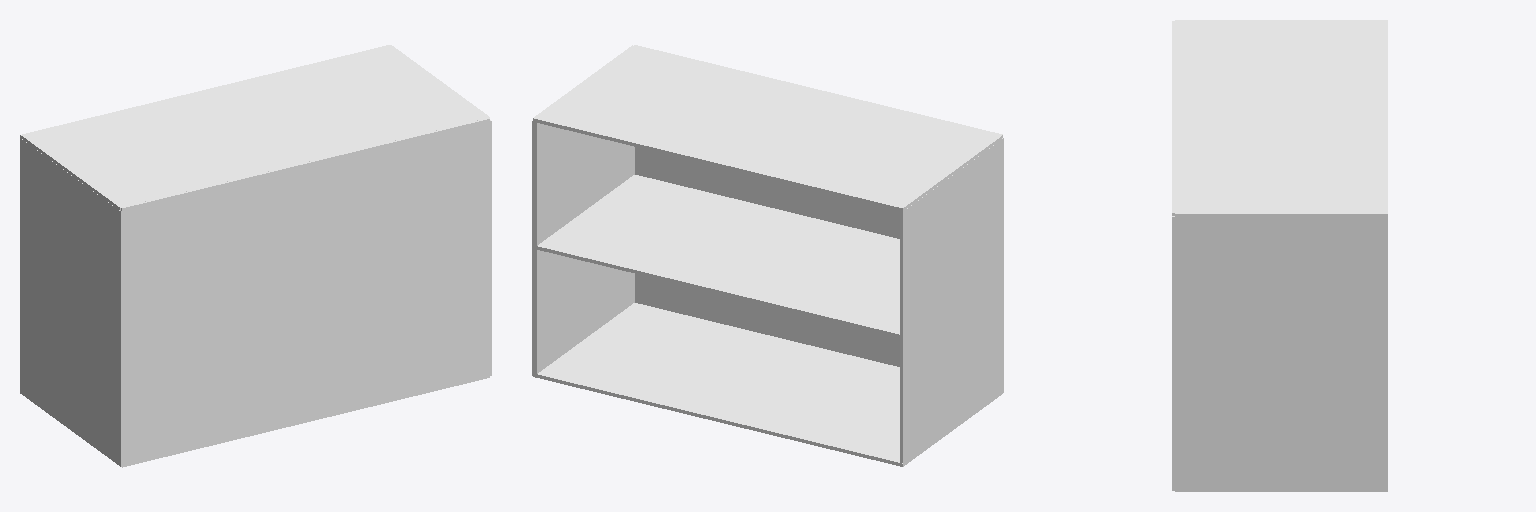
URDF robot description (shelf4.urdf):
<?xml version="0.0" ?>
<robot name="shelf4.urdf">
  <link concave="yes" name="base_link">
    <inertial>
      <mass value="0.0"/>
      <inertia ixx="0" ixy="0" ixz="0" iyy="0" iyz="0" izz="0"/>
    </inertial>
    <visual>
      <origin rpy="1.5707963 0 0"/>
      <geometry>
        <mesh filename="shelf4.obj" scale="0.009 0.006 0.009"/>
      </geometry>
      <material name="white">
        <color rgba="1 1 1 1"/>
      </material>
    </visual>
    <collision concave="yes">
      <origin rpy="1.5707963 0 0"/>
      <geometry>
        <mesh filename="shelf4.obj" scale="0.009 0.006 0.009"/>
      </geometry>
    </collision>
    <contact>
      <lateral_friction value="1.0"/>
    </contact>
  </link>
</robot>

--- What the picture shows (computed from the rendered views, not written in the file) ---
3 views of the same robot in one strip: view 1: azimuth 30°, elevation 25°; view 2: azimuth 150°, elevation 25°; view 3: azimuth 270°, elevation 25° (orthographic).
Model shelf4.urdf with 1 links and 0 joints (none), rooted at base_link, posed every joint at zero.
Visible links, largest first — view 1: base_link; view 2: base_link; view 3: base_link.
Boxes of the visible links, x1,y1,x2,y2 form: base_link: (20, 45, 491, 467); base_link: (532, 45, 1003, 466); base_link: (1172, 20, 1387, 491).
Bounding box of the posed robot: 0.4583 × 0.2165 × 0.3062 m (x, y, z).
Meshes: 1 distinct files referenced, 1 mesh visuals loaded (1 OBJ).
